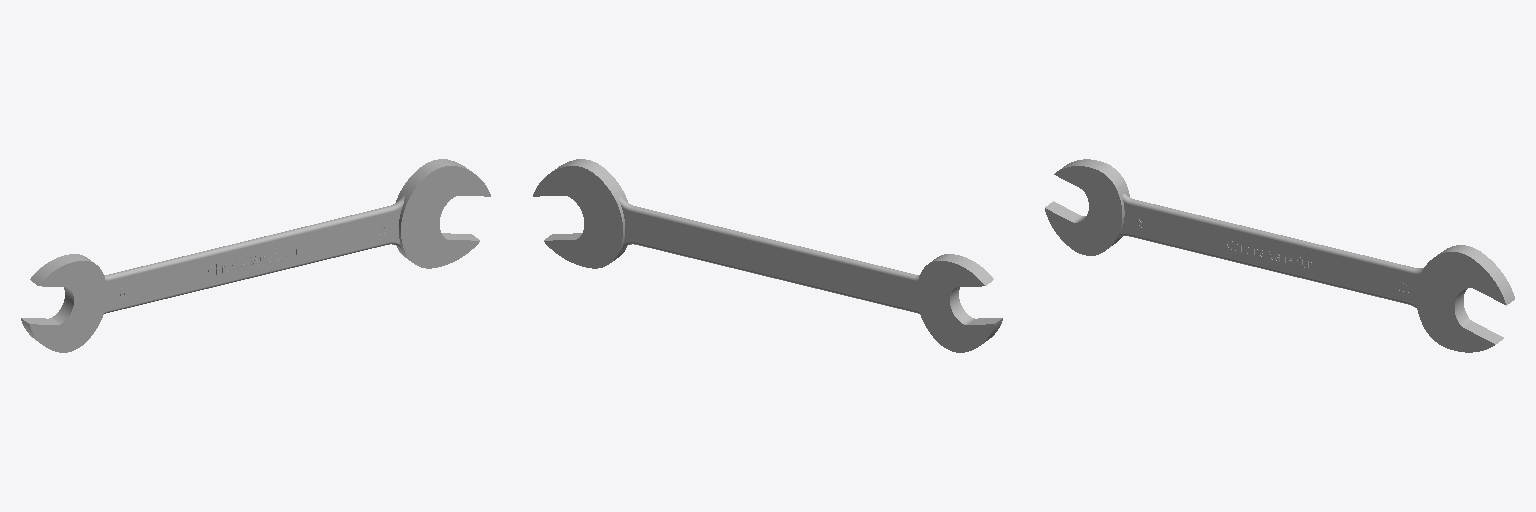
The robot description file, URDF, robot "wrench":
<robot name="wrench">
    <link name="wrench_base_link">
        <inertial>
            <origin
                xyz="0.10033996066894936 1.3874499517585422e-06 5.5300044859263774e-05"
                rpy="0 0 0" />
            <mass
                value="0.02857838012119553" />
            <inertia
                ixx="3.455112055449e-06"
                ixy="3.299585298311813e-10"
                ixz="-1.0092145645725366e-06"
                iyy="0.00017860106925991035"
                iyz="1.565385446755911e-11"
                izz="0.00017536540042393947" />
        </inertial>
        <visual>
            <geometry>
                <mesh filename="DIN_3110_Double_Wrench_18x21.obj" scale="1.0 1.0 1.0"/>
            </geometry>
            <material name="silver_coating">
                <color rgba="0.75 0.75 0.75 0.8"/>
            </material>
        </visual>
        <collision>
            <geometry>
                <mesh filename="DIN_3110_Double_Wrench_18x21.obj" scale="1.0 1.0 1.0"/>
            </geometry>
        </collision>
    </link>

</robot>

--- What the picture shows (computed from the rendered views, not written in the file) ---
Views: 3 orthographic renders of the robot side by side, from view 1: azimuth 30°, elevation 25°; view 2: azimuth 150°, elevation 25°; view 3: azimuth 330°, elevation 25°.
Model wrench with 1 links and 0 joints (none), rooted at wrench_base_link, posed all joints at 0.
Visible links, largest first — view 1: wrench_base_link; view 2: wrench_base_link; view 3: wrench_base_link.
Link boxes in pixels (bbox=[...]): wrench_base_link: bbox=[21, 159, 490, 352]; wrench_base_link: bbox=[533, 159, 1002, 352]; wrench_base_link: bbox=[1045, 159, 1514, 352].
Size in the robot's own frame: 0.2363 by 0.008 by 0.0485 metres.
1 mesh visuals loaded from 1 distinct referenced files (1 OBJ).
